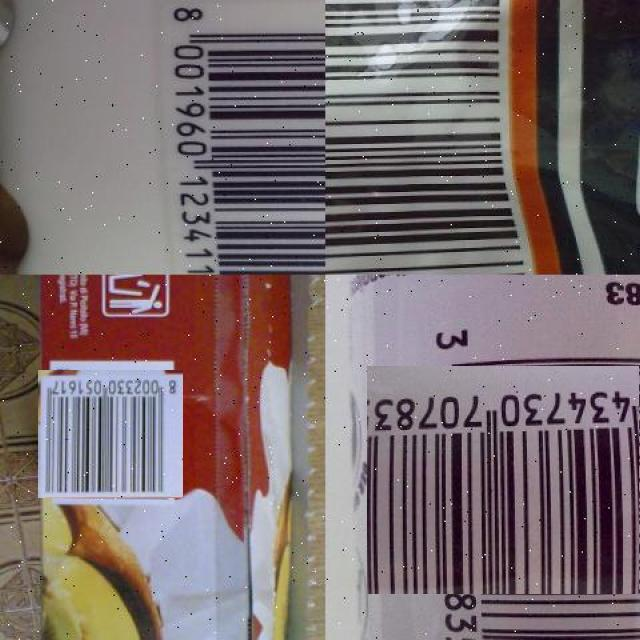Barcode: (389, 343, 640, 617), (325, 0, 544, 275), (168, 0, 325, 275), (42, 365, 179, 503)
